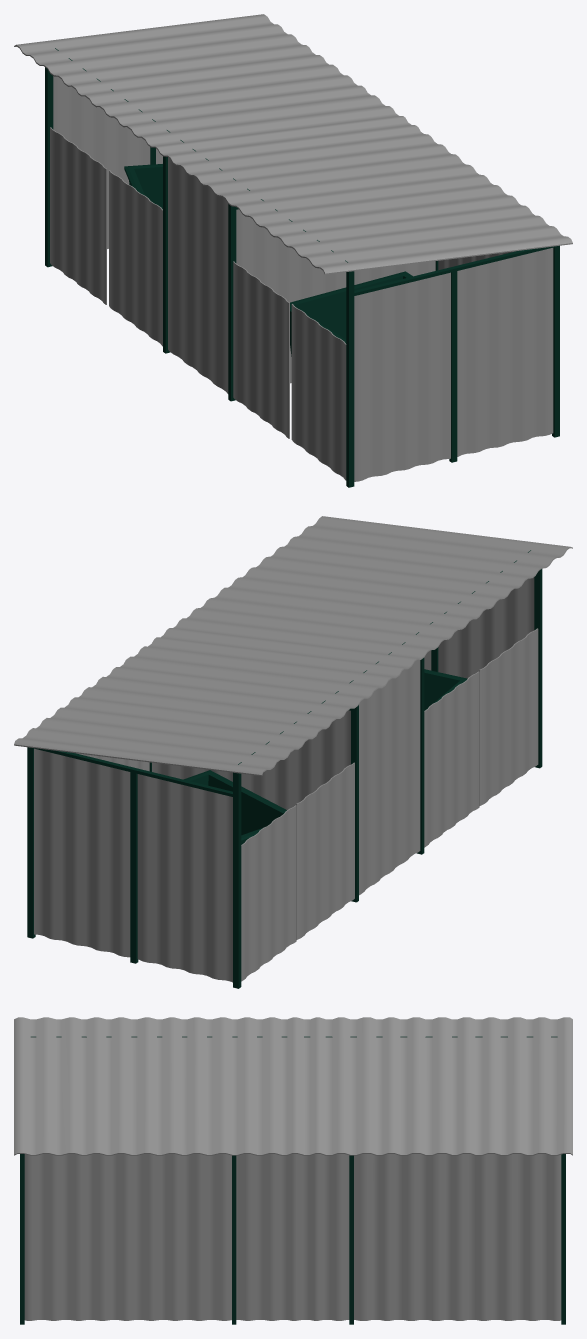
Rendered from TrashCan2.fbx.
3 views of the same model, one above another, from view 1: azimuth 30°, elevation 25°; view 2: azimuth 150°, elevation 25°; view 3: azimuth 270°, elevation 25° (orthographic). The views are drawn at different scales.
Parts seen in each view (by area): view 1: Box001; view 2: Box001; view 3: Box001.
Part boxes in pixels (left/top/right/bottom): Box001: left=14, top=14, right=572, bottom=487; Box001: left=14, top=516, right=572, bottom=988; Box001: left=14, top=1017, right=572, bottom=1324.
Bounding box in the file's own units: 3.55 × 3.08 × 7.69.
